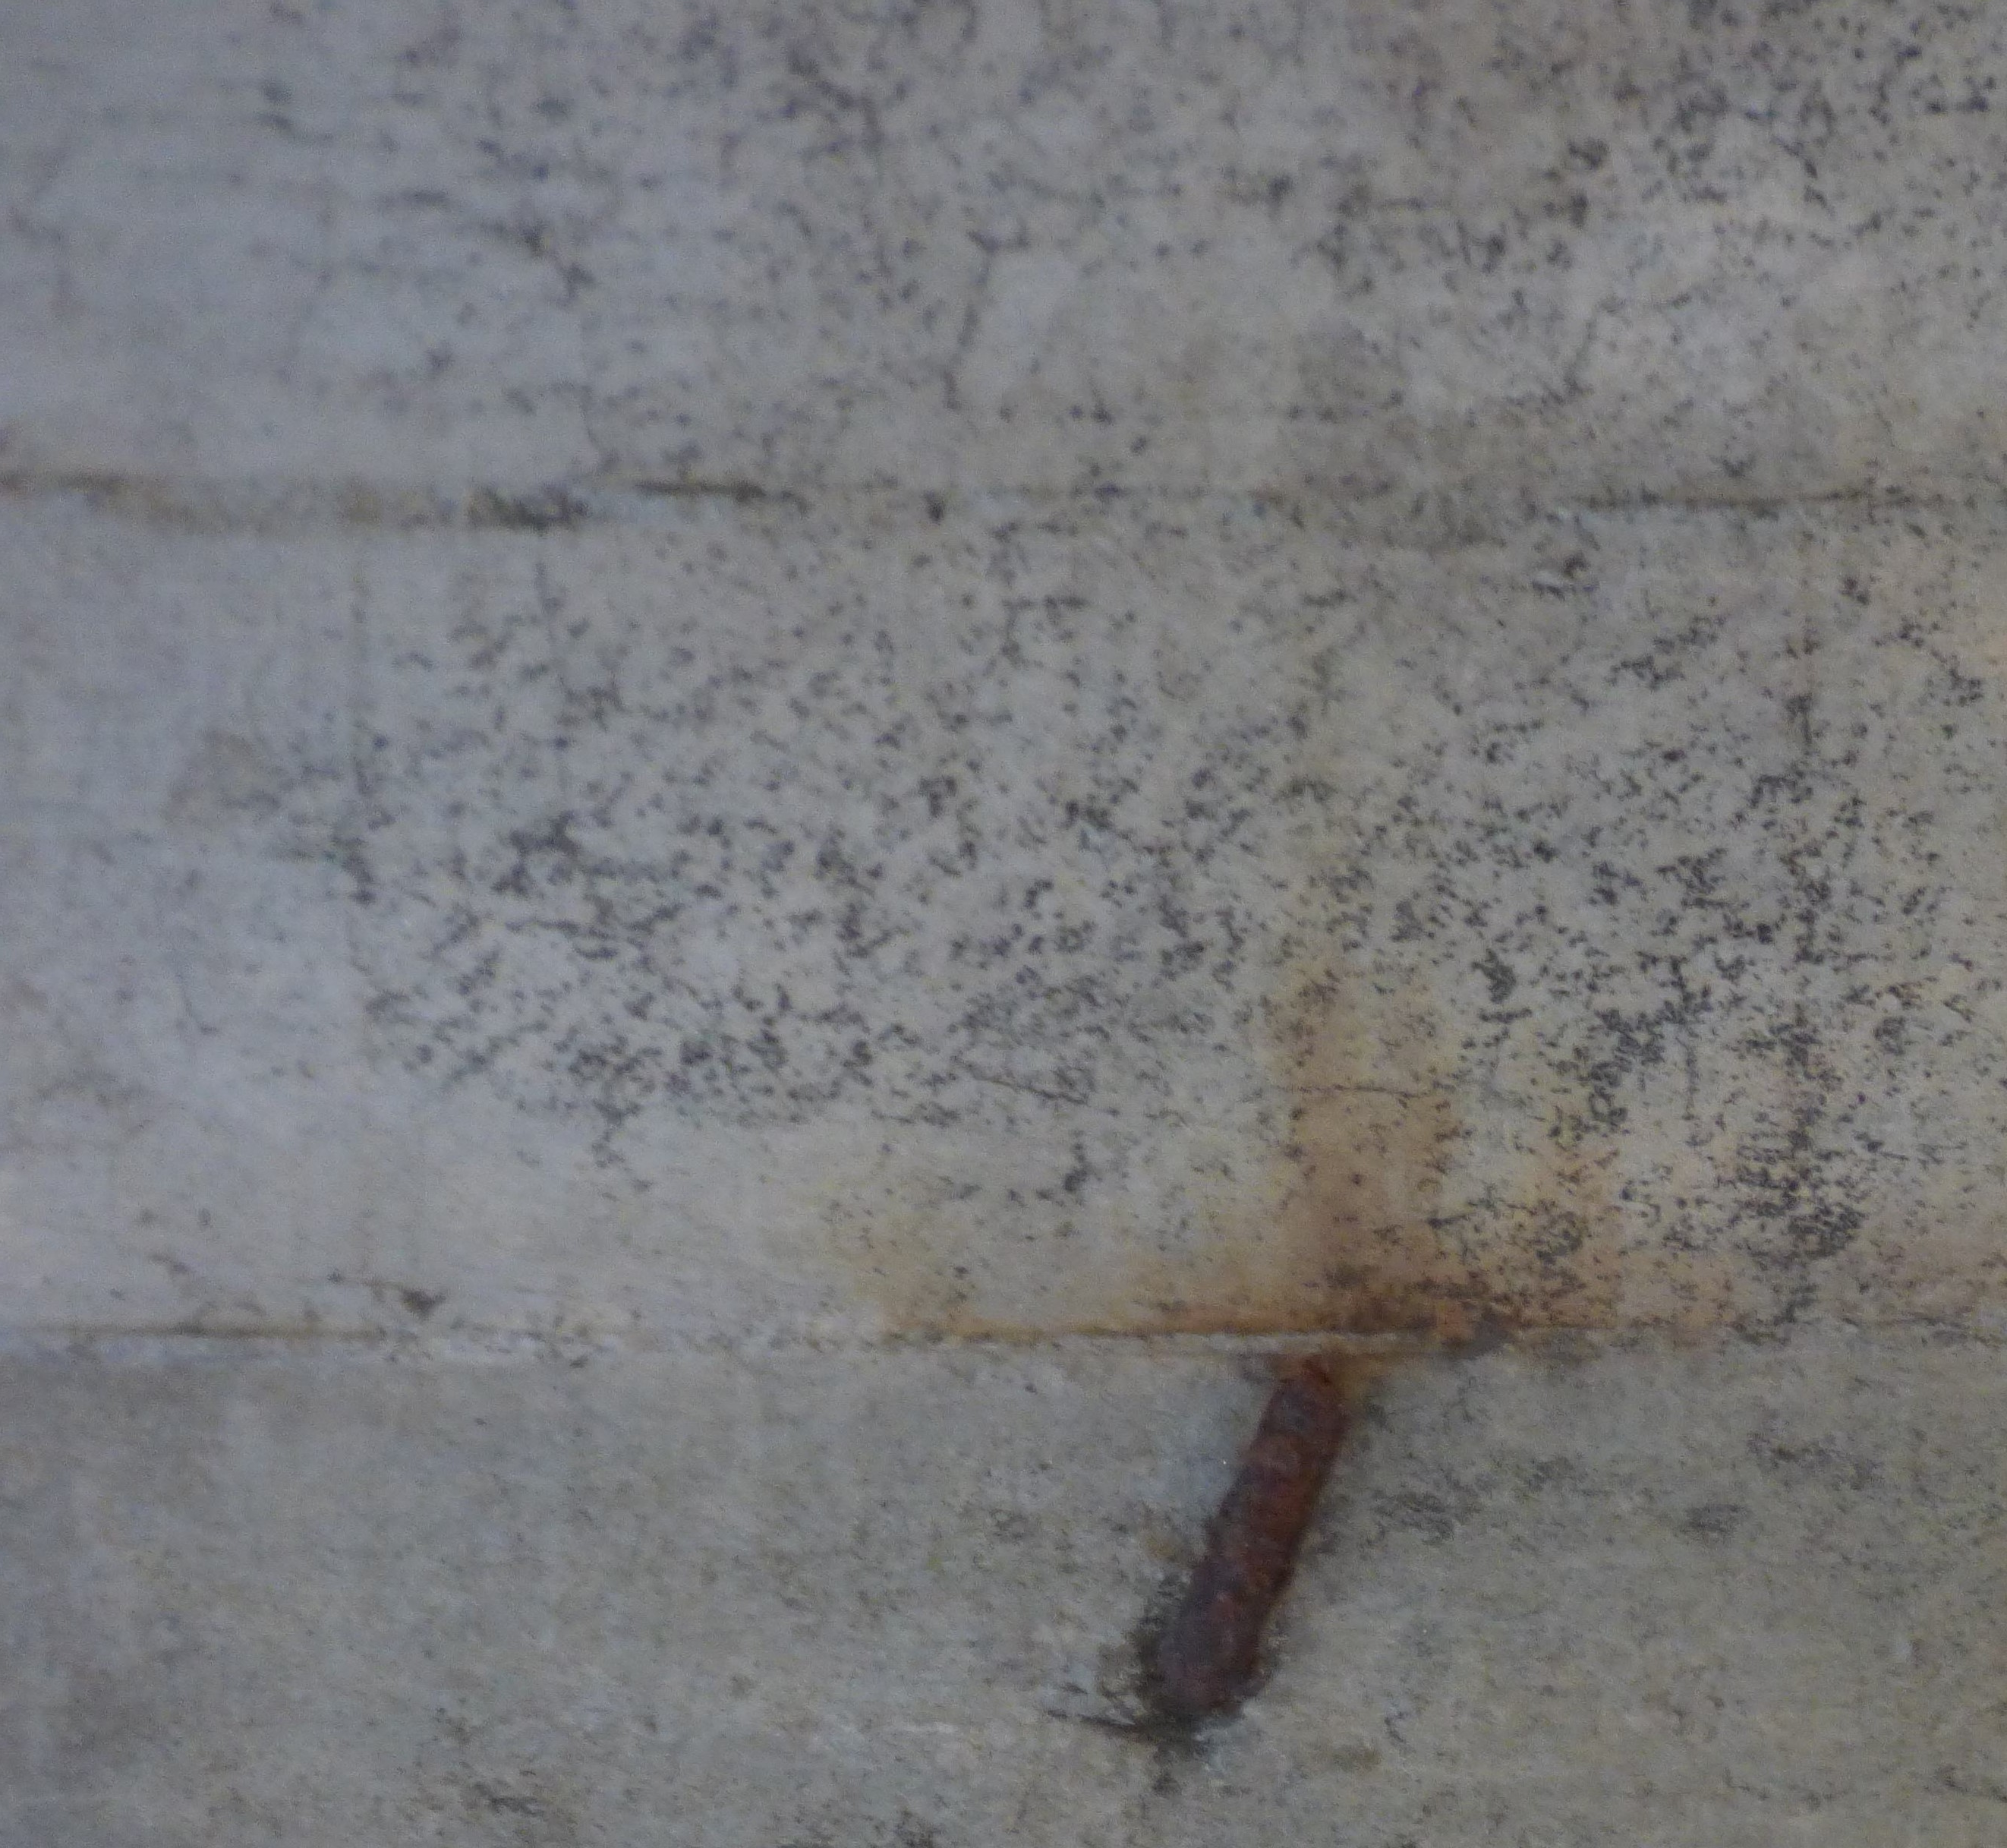Exposed reinforcement: (1159, 1374, 1348, 1696)
